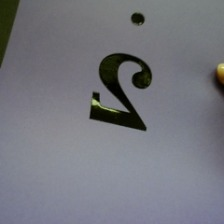violet2: (85, 9, 161, 137)
